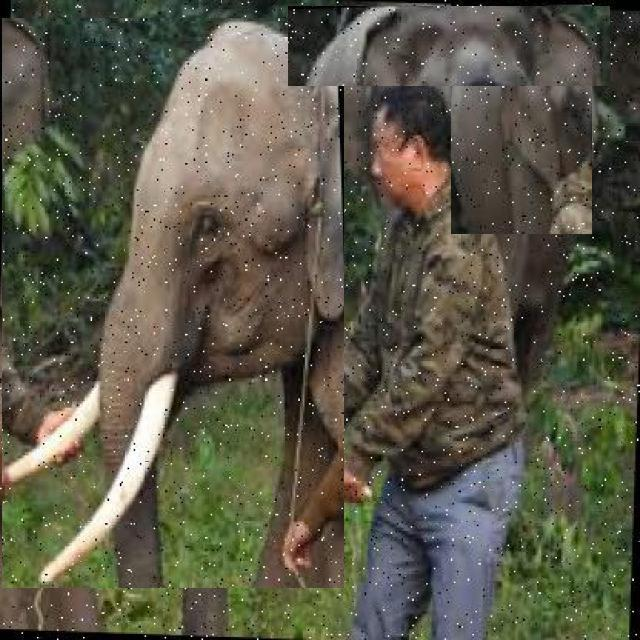p_time: (2, 18, 344, 588), (451, 3, 592, 234), (288, 6, 610, 86)
poacher: (272, 68, 525, 620)
